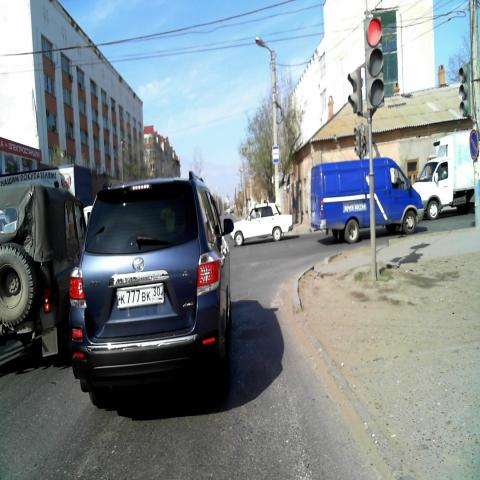3_28: (468, 130, 480, 160)
